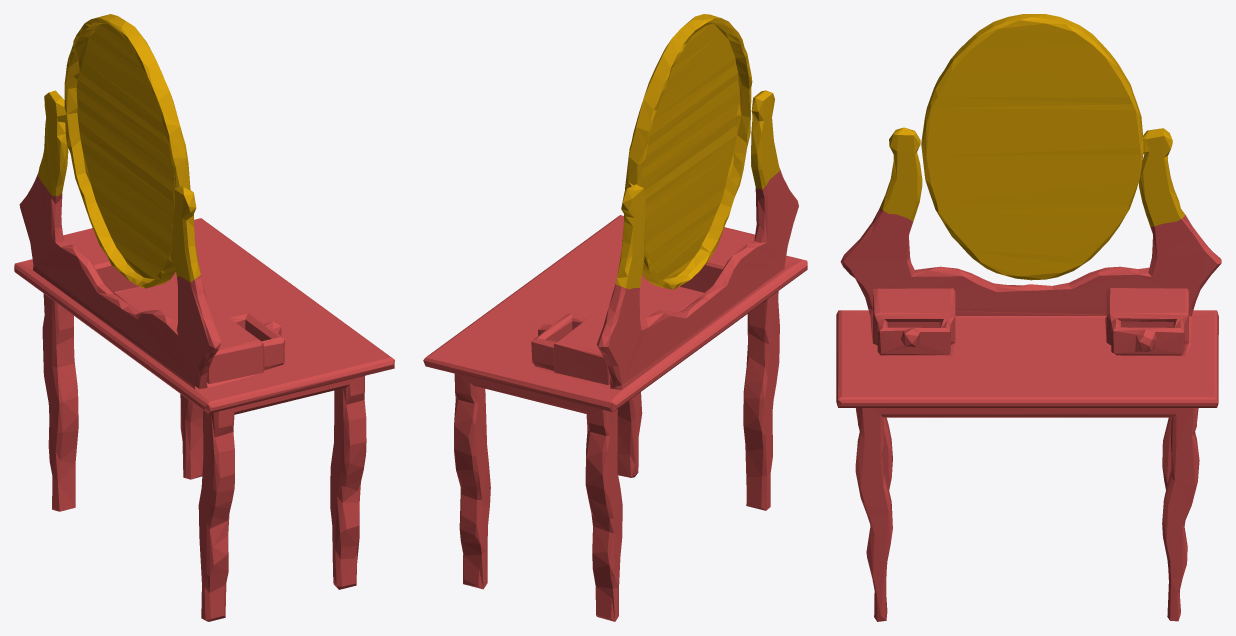
Rendered from mode_1_2pcs.glb.
3 views of the same model, side by side, from view 1: azimuth 30°, elevation 25°; view 2: azimuth 150°, elevation 25°; view 3: azimuth 270°, elevation 25° (orthographic). The views are drawn at different scales.
Parts seen in each view (by area): view 1: piece_1.obj, piece_0.obj; view 2: piece_1.obj, piece_0.obj; view 3: piece_1.obj, piece_0.obj.
Boxes of the visible parts, x1,y1,x2,y2 form: piece_1.obj: [14, 174, 394, 621]; piece_0.obj: [37, 14, 200, 288]; piece_1.obj: [423, 167, 807, 621]; piece_0.obj: [615, 14, 779, 289]; piece_1.obj: [836, 208, 1221, 621]; piece_0.obj: [880, 14, 1184, 280].
Bounding box in the file's own units: 0.3649 × 1 × 0.6554.
